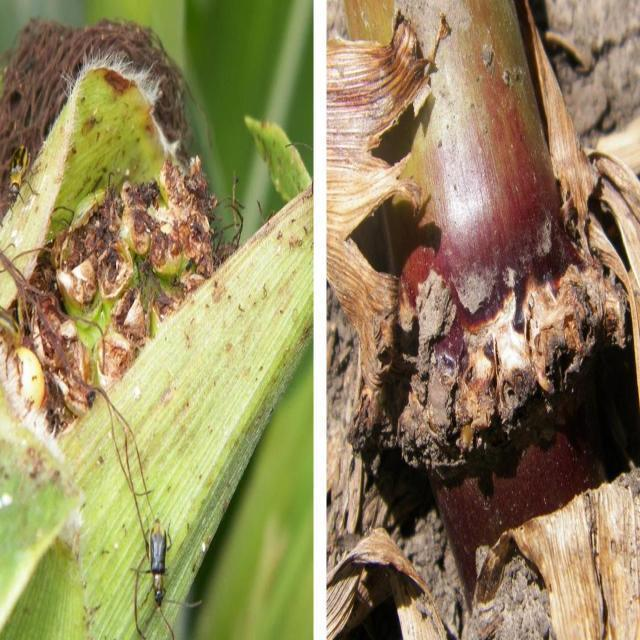trips: (132, 517, 204, 640)
